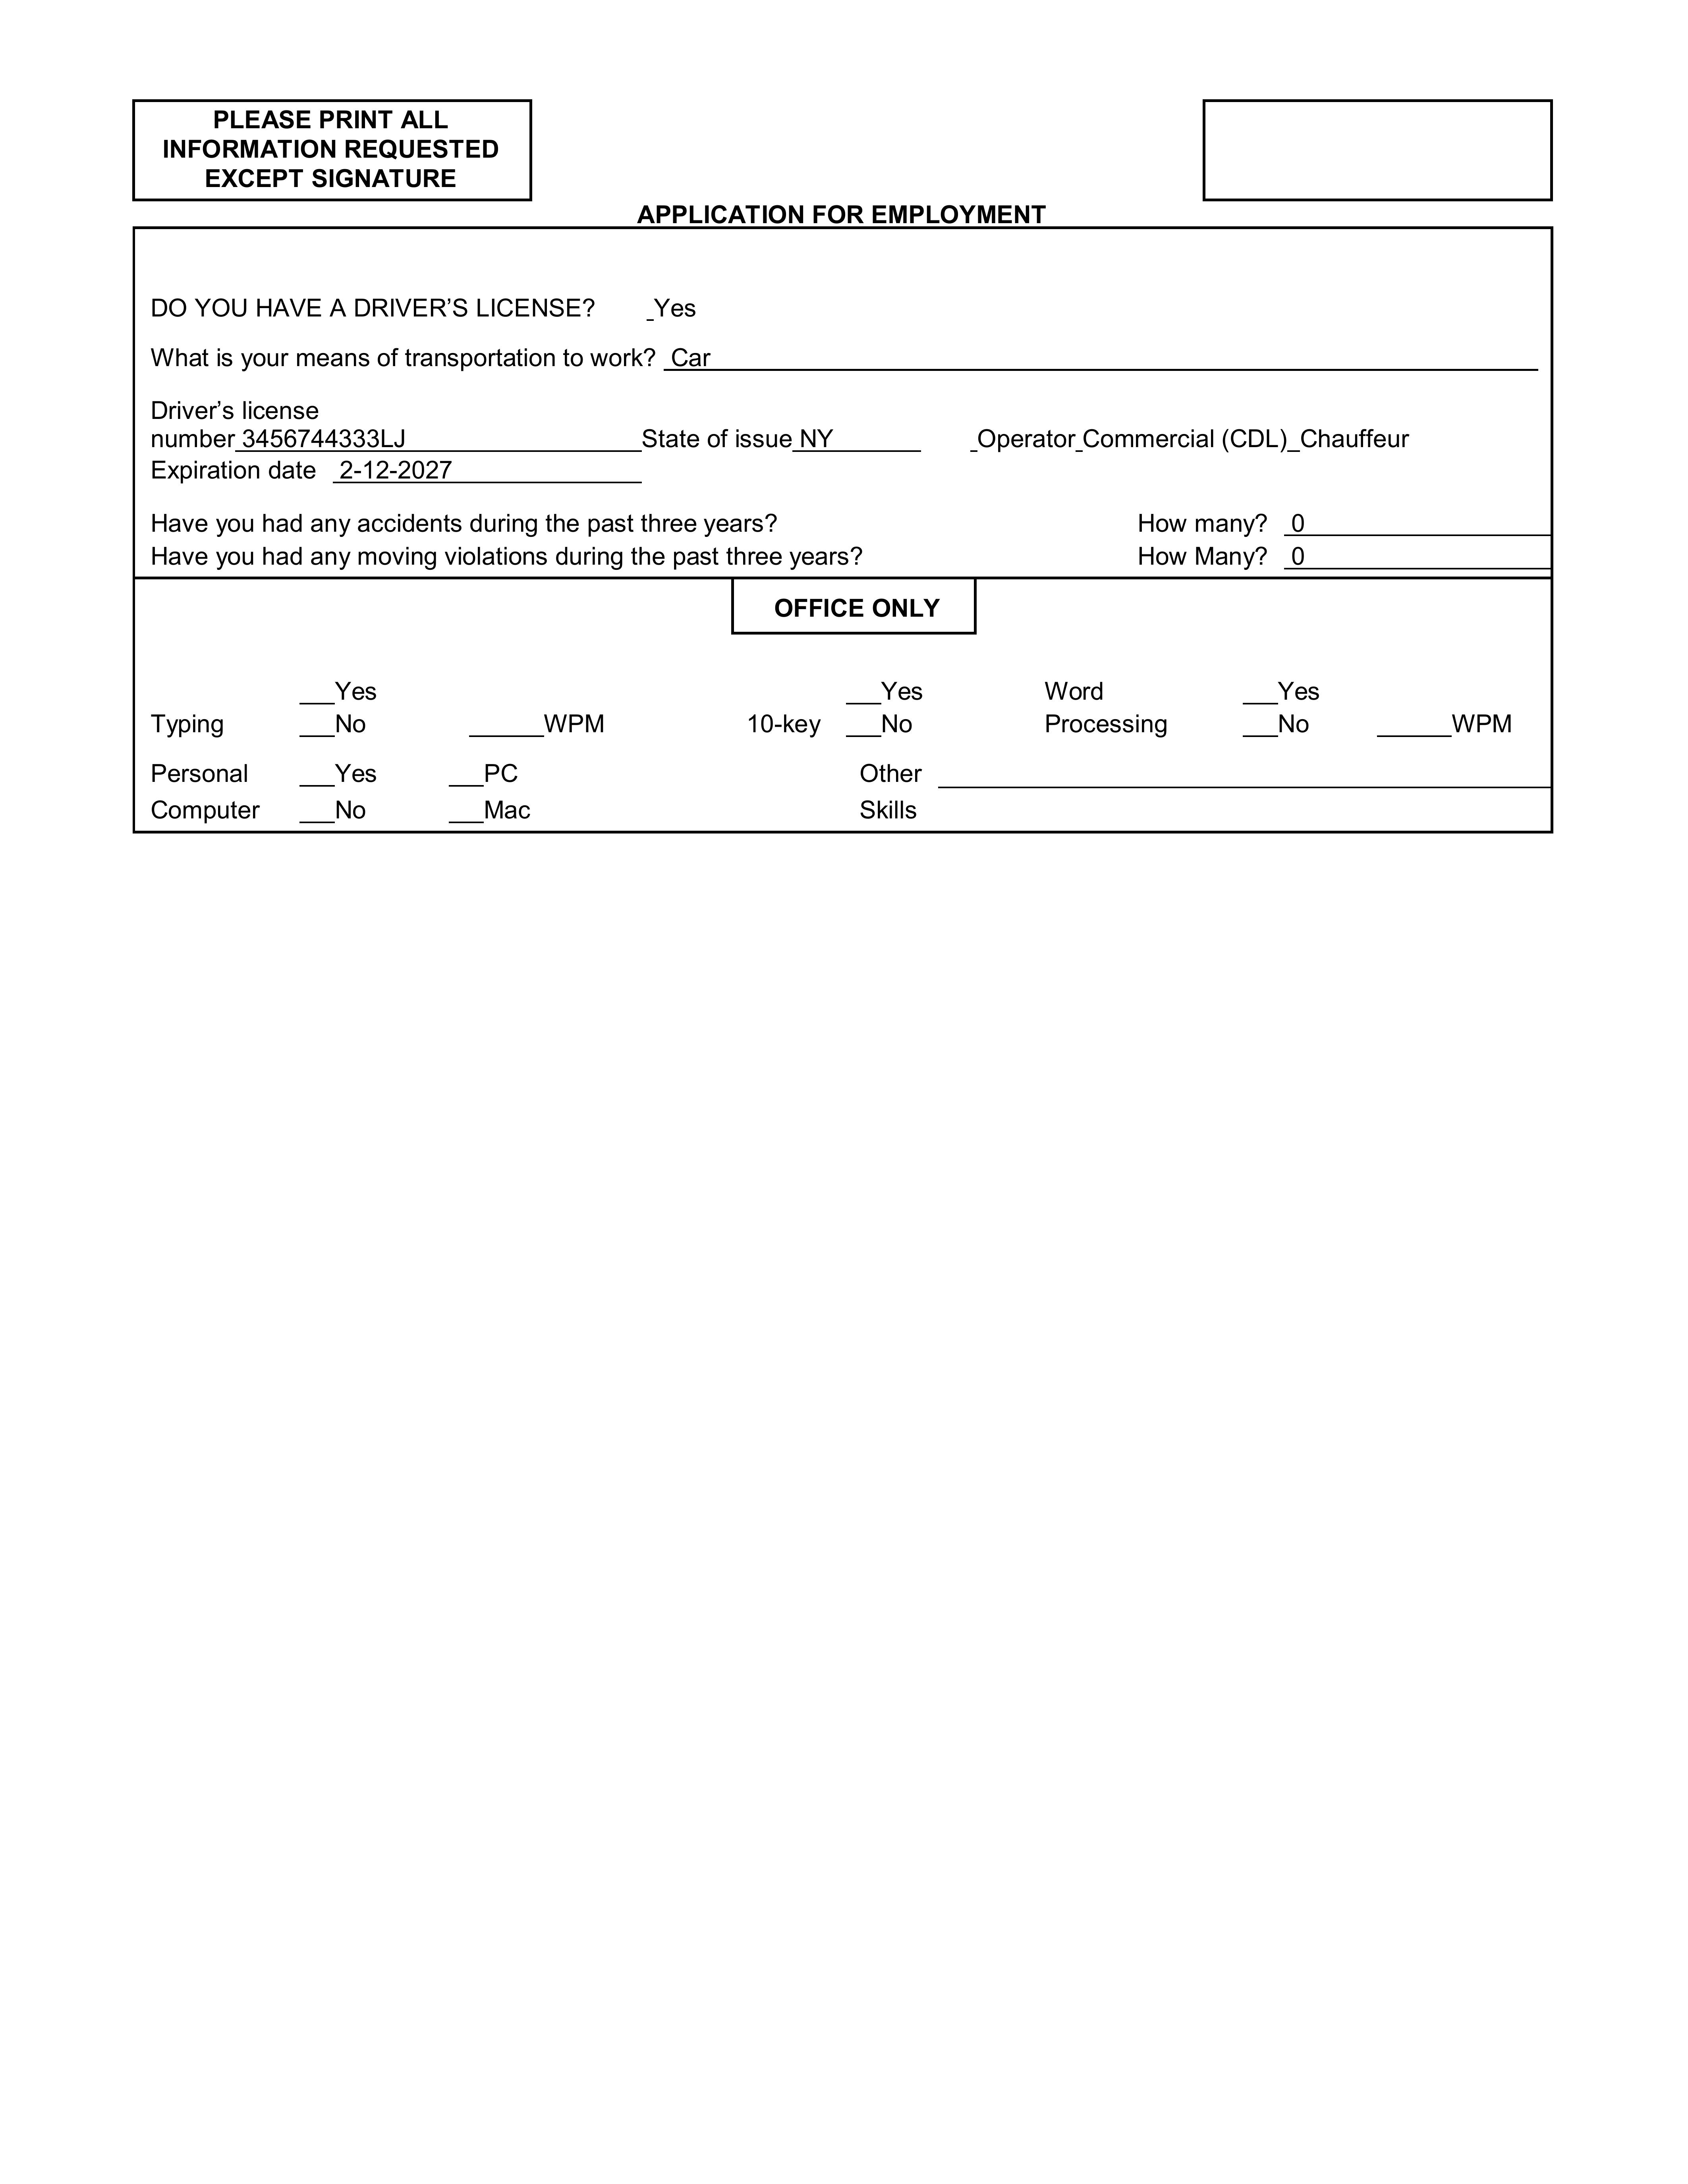table: (129, 227, 1550, 578), (135, 587, 1553, 837)
